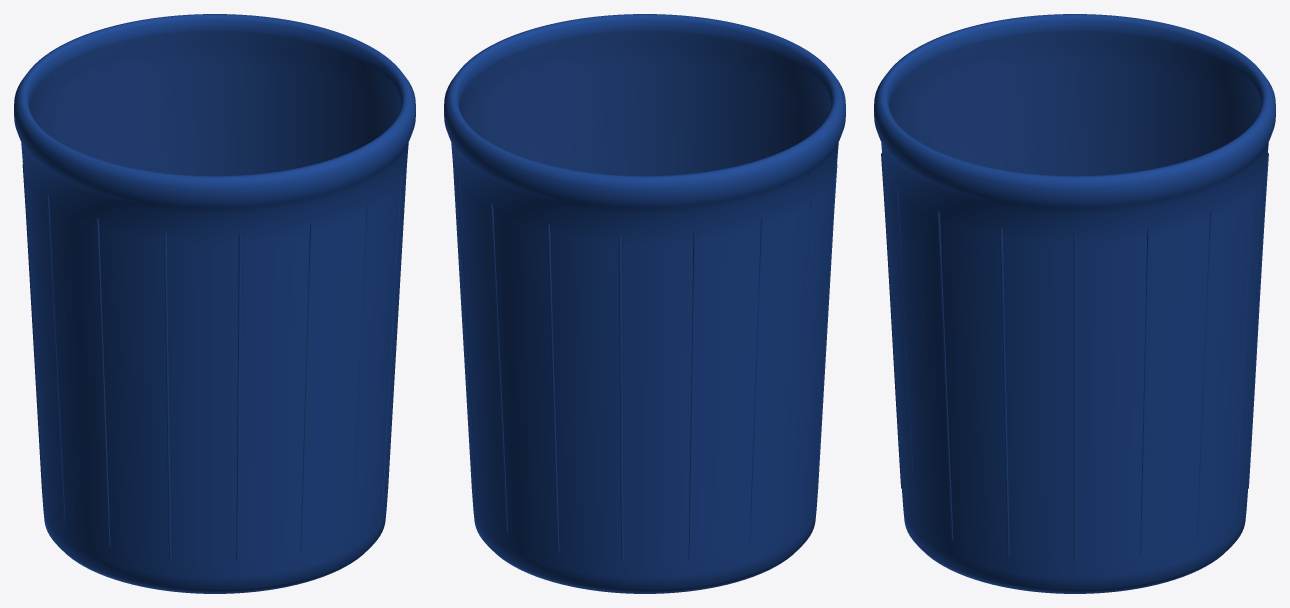
The model's file is lixeira.glb.
The picture shows the model from 3 angles, left to right: view 1: azimuth 30°, elevation 25°; view 2: azimuth 150°, elevation 25°; view 3: azimuth 270°, elevation 25°; orthographic projection.
Visible parts, largest first — view 1: Lixeira aberta corpo e interior, Nervura de reforco.011, Nervura de reforco.010, Nervura de reforco.012, Nervura de reforco.009, Nervura de reforco.013, Nervura de reforco.008, Nervura de reforco.014, Nervura de reforco.007; view 2: Lixeira aberta corpo e interior, Nervura de reforco.005, Nervura de reforco.006, Nervura de reforco.004, Nervura de reforco.007, Nervura de reforco.003, Nervura de reforco.008, Nervura de reforco.002, Nervura de reforco.009; view 3: Lixeira aberta corpo e interior, Nervura de reforco, Nervura de reforco.001, Nervura de reforco.015, Nervura de reforco.002, Nervura de reforco.014, Nervura de reforco.003, Nervura de reforco.013.
Boxes of the visible parts, x1,y1,x2,y2 form: Lixeira aberta corpo e interior: [14, 14, 415, 593]; Nervura de reforco.011: [236, 234, 241, 560]; Nervura de reforco.010: [163, 232, 171, 559]; Nervura de reforco.012: [300, 224, 312, 551]; Nervura de reforco.009: [96, 218, 110, 546]; Nervura de reforco.013: [351, 203, 369, 532]; Nervura de reforco.008: [46, 194, 65, 524]; Nervura de reforco.014: [382, 174, 402, 507]; Nervura de reforco.007: [22, 164, 43, 497]; Lixeira aberta corpo e interior: [444, 14, 845, 593]; Nervura de reforco.005: [618, 234, 623, 560]; Nervura de reforco.006: [688, 232, 696, 559]; Nervura de reforco.004: [547, 224, 559, 551]; Nervura de reforco.007: [749, 218, 763, 546]; Nervura de reforco.003: [490, 203, 508, 532]; Nervura de reforco.008: [794, 194, 813, 524]; Nervura de reforco.002: [457, 174, 477, 507]; Nervura de reforco.009: [816, 164, 837, 497]; Lixeira aberta corpo e interior: [874, 14, 1275, 593]; Nervura de reforco: [1073, 235, 1076, 561]; Nervura de reforco.001: [1140, 229, 1149, 555]; Nervura de reforco.015: [1000, 229, 1009, 555]; Nervura de reforco.002: [1196, 211, 1212, 540]; Nervura de reforco.014: [937, 211, 953, 540]; Nervura de reforco.003: [1234, 184, 1254, 516]; Nervura de reforco.013: [895, 184, 915, 516].
Bounding box in the file's own units: 0.32 × 0.38 × 0.32.
